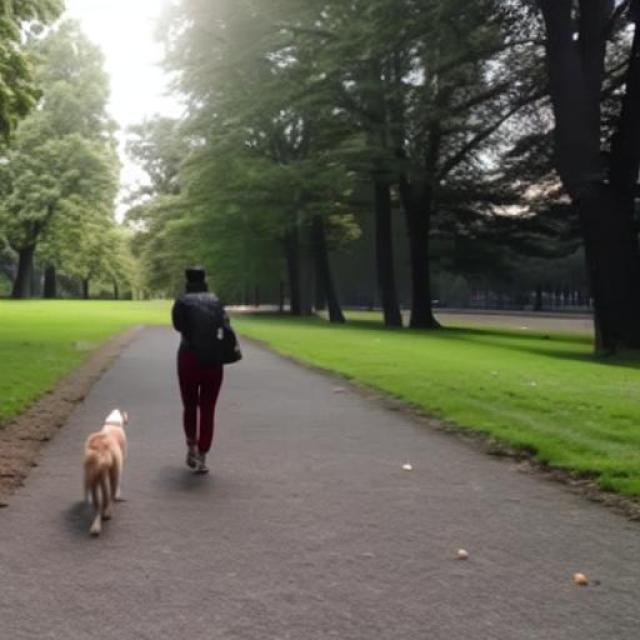Unleashed_Dog: (80, 363, 222, 541)
